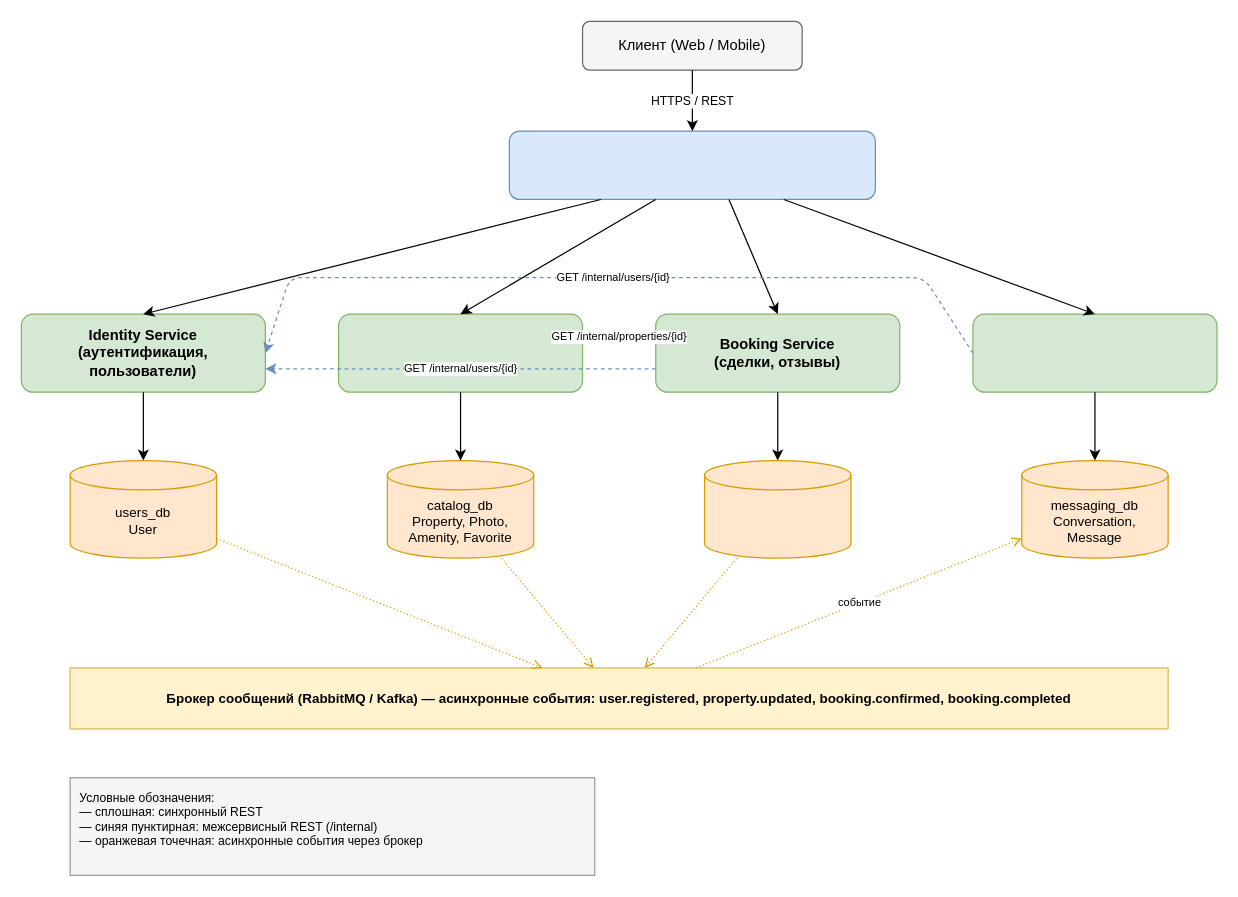
The diagram is 1238 pixels wide and 897 high, and some of its shapes have lost their labels. Here are the shapes that lost their labels. From the top down, the centre of each, then its label:
At pixel 691 164: "API Gateway (маршрутизация, проверка JWT, агрегация)".
At pixel 460 352: "Catalog Service (объекты, фото, удобства, избранное)".
At pixel 1094 352: "Messaging Service (диалоги, сообщения)".
At pixel 777 508: "booking_db Booking, Review".
